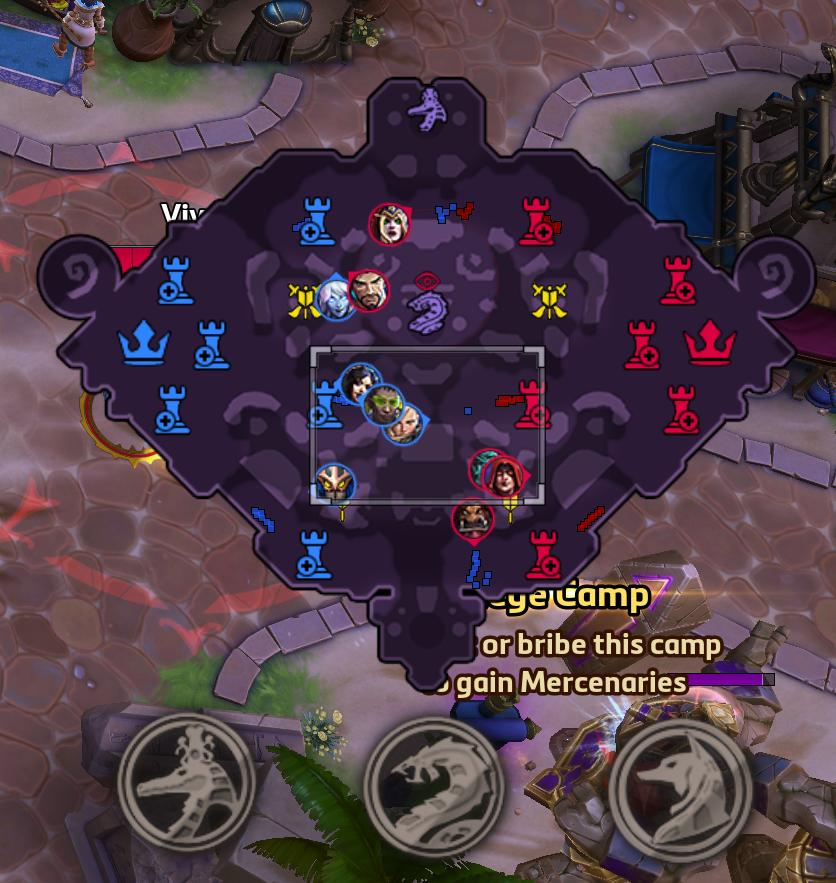blue nexus: (115, 316, 172, 366)
blue player: (313, 274, 356, 322), (383, 404, 428, 446), (314, 462, 356, 507), (338, 362, 381, 405), (361, 383, 405, 425)
blue tower: (295, 194, 337, 246), (306, 376, 344, 429), (193, 318, 231, 370), (295, 527, 332, 580), (153, 383, 191, 434), (157, 254, 195, 305)
red nexus: (682, 317, 737, 367)
red player: (483, 454, 530, 499), (368, 202, 411, 246), (347, 268, 390, 312), (451, 501, 495, 543), (467, 449, 504, 492), (457, 525, 487, 548)
red tower: (517, 194, 557, 247), (622, 318, 661, 372), (661, 383, 700, 436), (512, 377, 551, 429), (658, 255, 696, 307), (526, 528, 560, 580)
